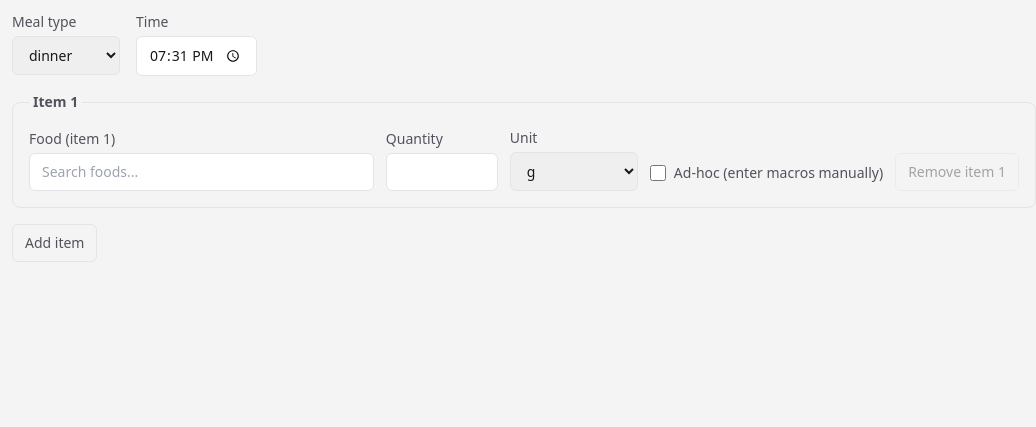
MealEditor › toggles ad-hoc mode: macro fields appear and food search disappears, and vice versa
The image size is (1036, 427).
Expected: the dropdown labelled "Food (item 1)" is shown, [29,153,374,191]
Expected: the field labelled "calories" is not shown
Click the checkbox labelled "Ad-hoc (enter macros manually)". click: click(658, 173)
box: [650,165,666,181]
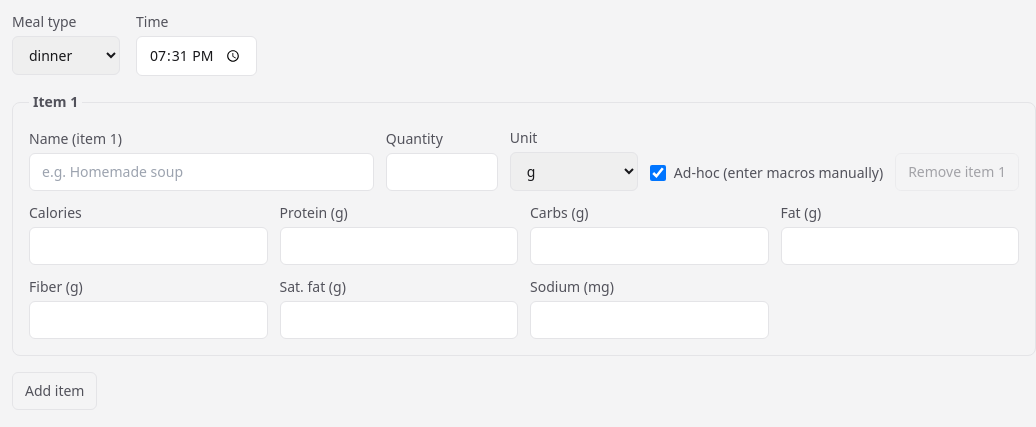
Expected: the label "Food (item 1)" is gone
Expected: the field labelled "Name (item 1)" is shown, [29,153,374,191]
Expected: the number field labelled "Calories" is shown, [29,227,268,265]
Click the checkbox labelled "Ad-hoc (enter macros manually)". click: click(658, 173)
box: [650,165,666,181]
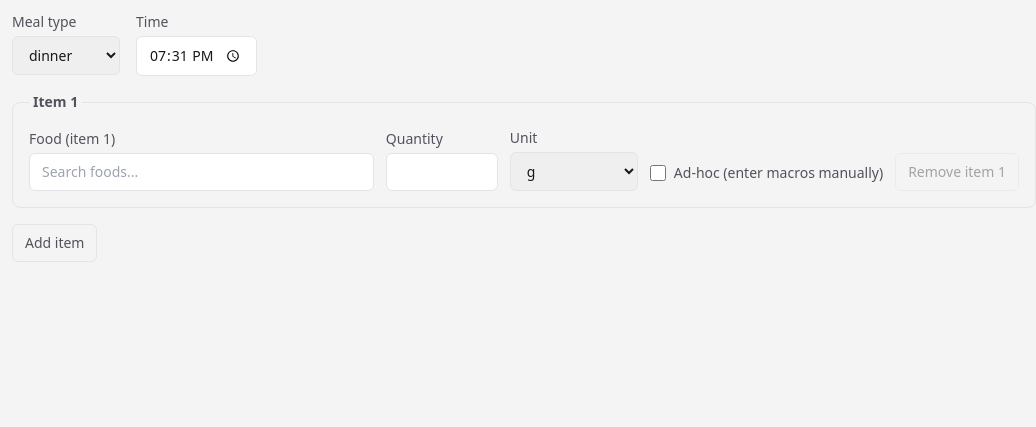
Expected: the dropdown labelled "Food (item 1)" is shown, [29,153,374,191]
Expected: the label labelled "Calories" is gone
